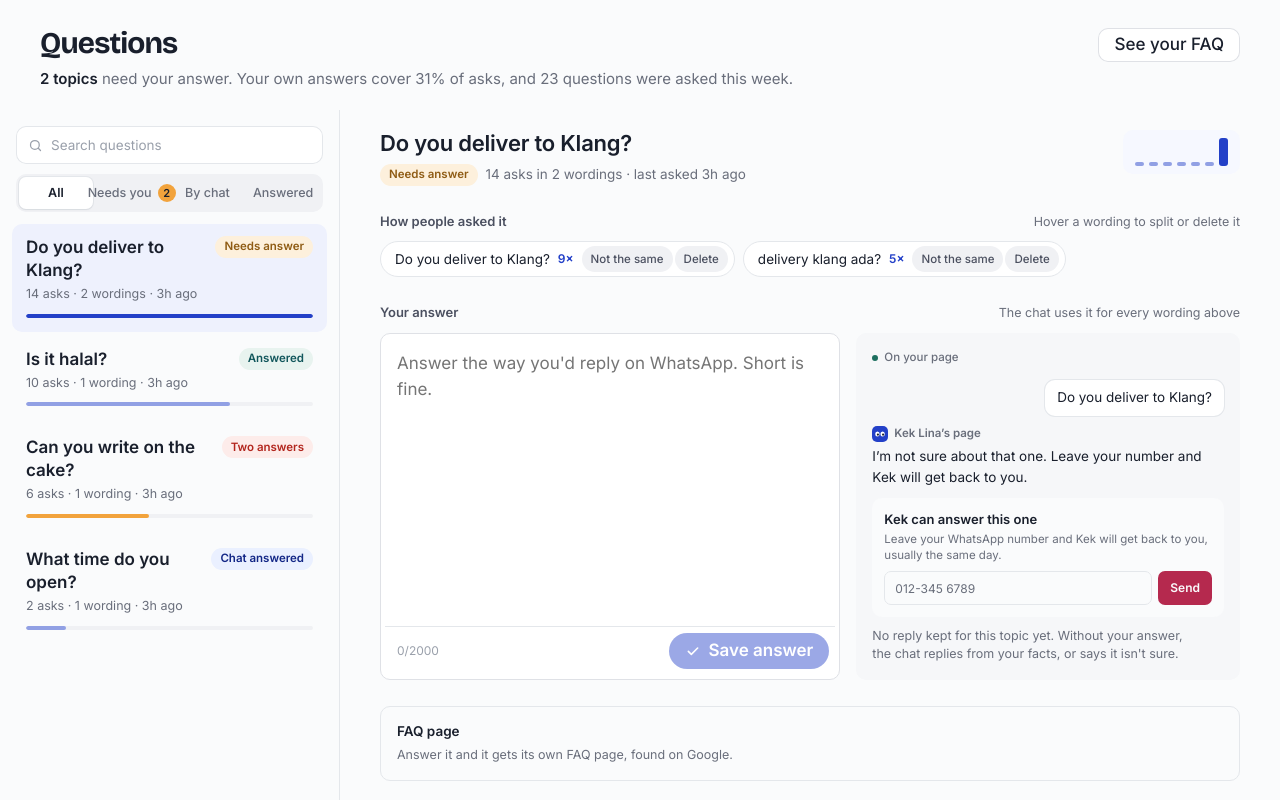
Test: QuestionsScreen, the list › opens the topic chosen
The width and height of the screenshot is (1280, 800).
Click the button "Is it halal? Answered 10 asks · 1 wording · 3h ago".
click(170, 378)  # box [12,336,327,420]
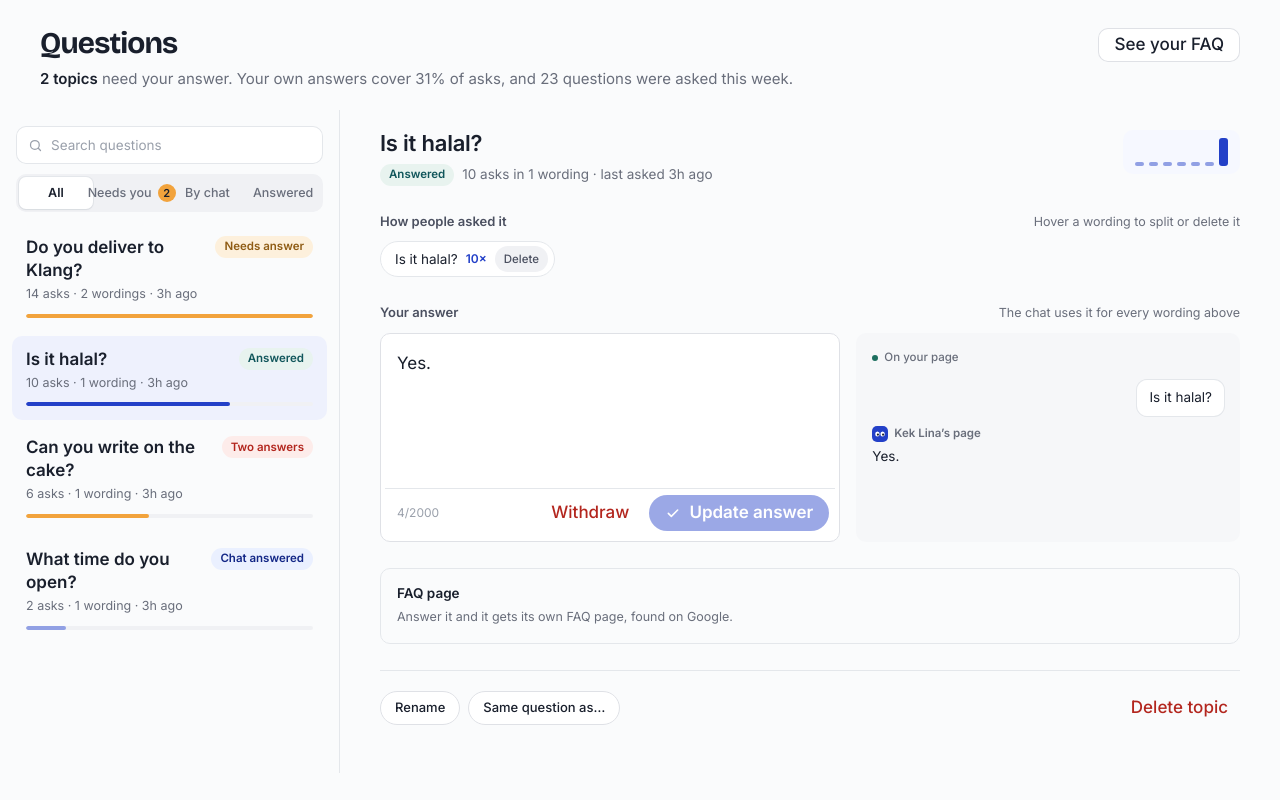
Expected: the heading "Is it halal?" is shown, [380,130,482,156]
